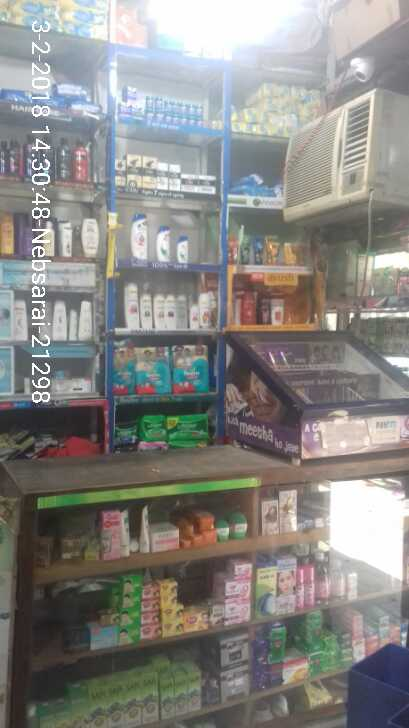vicks: (119, 84, 223, 130)
